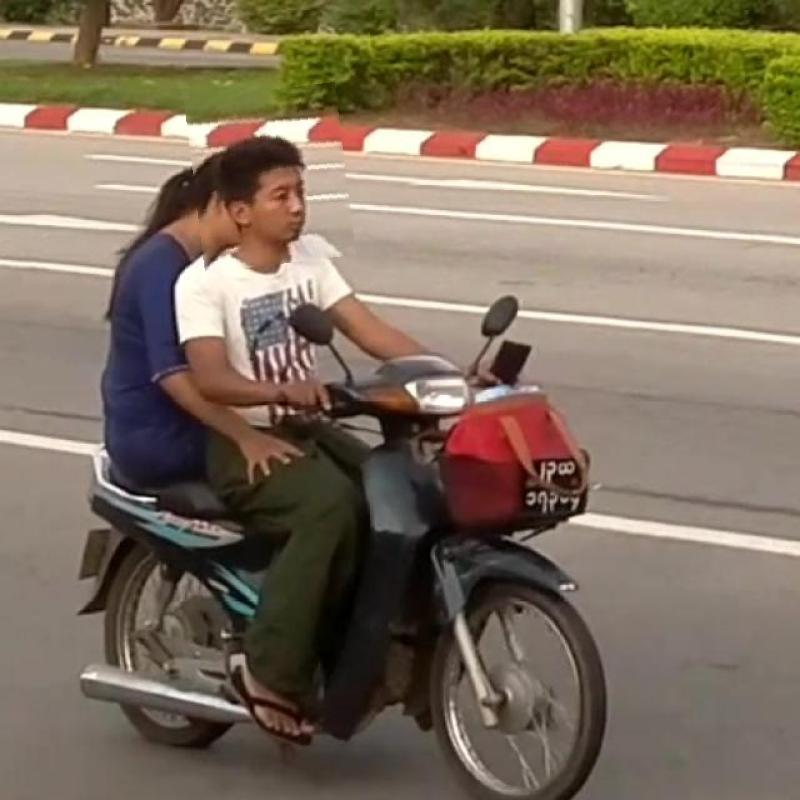nohelmet: (189, 86, 351, 270)
